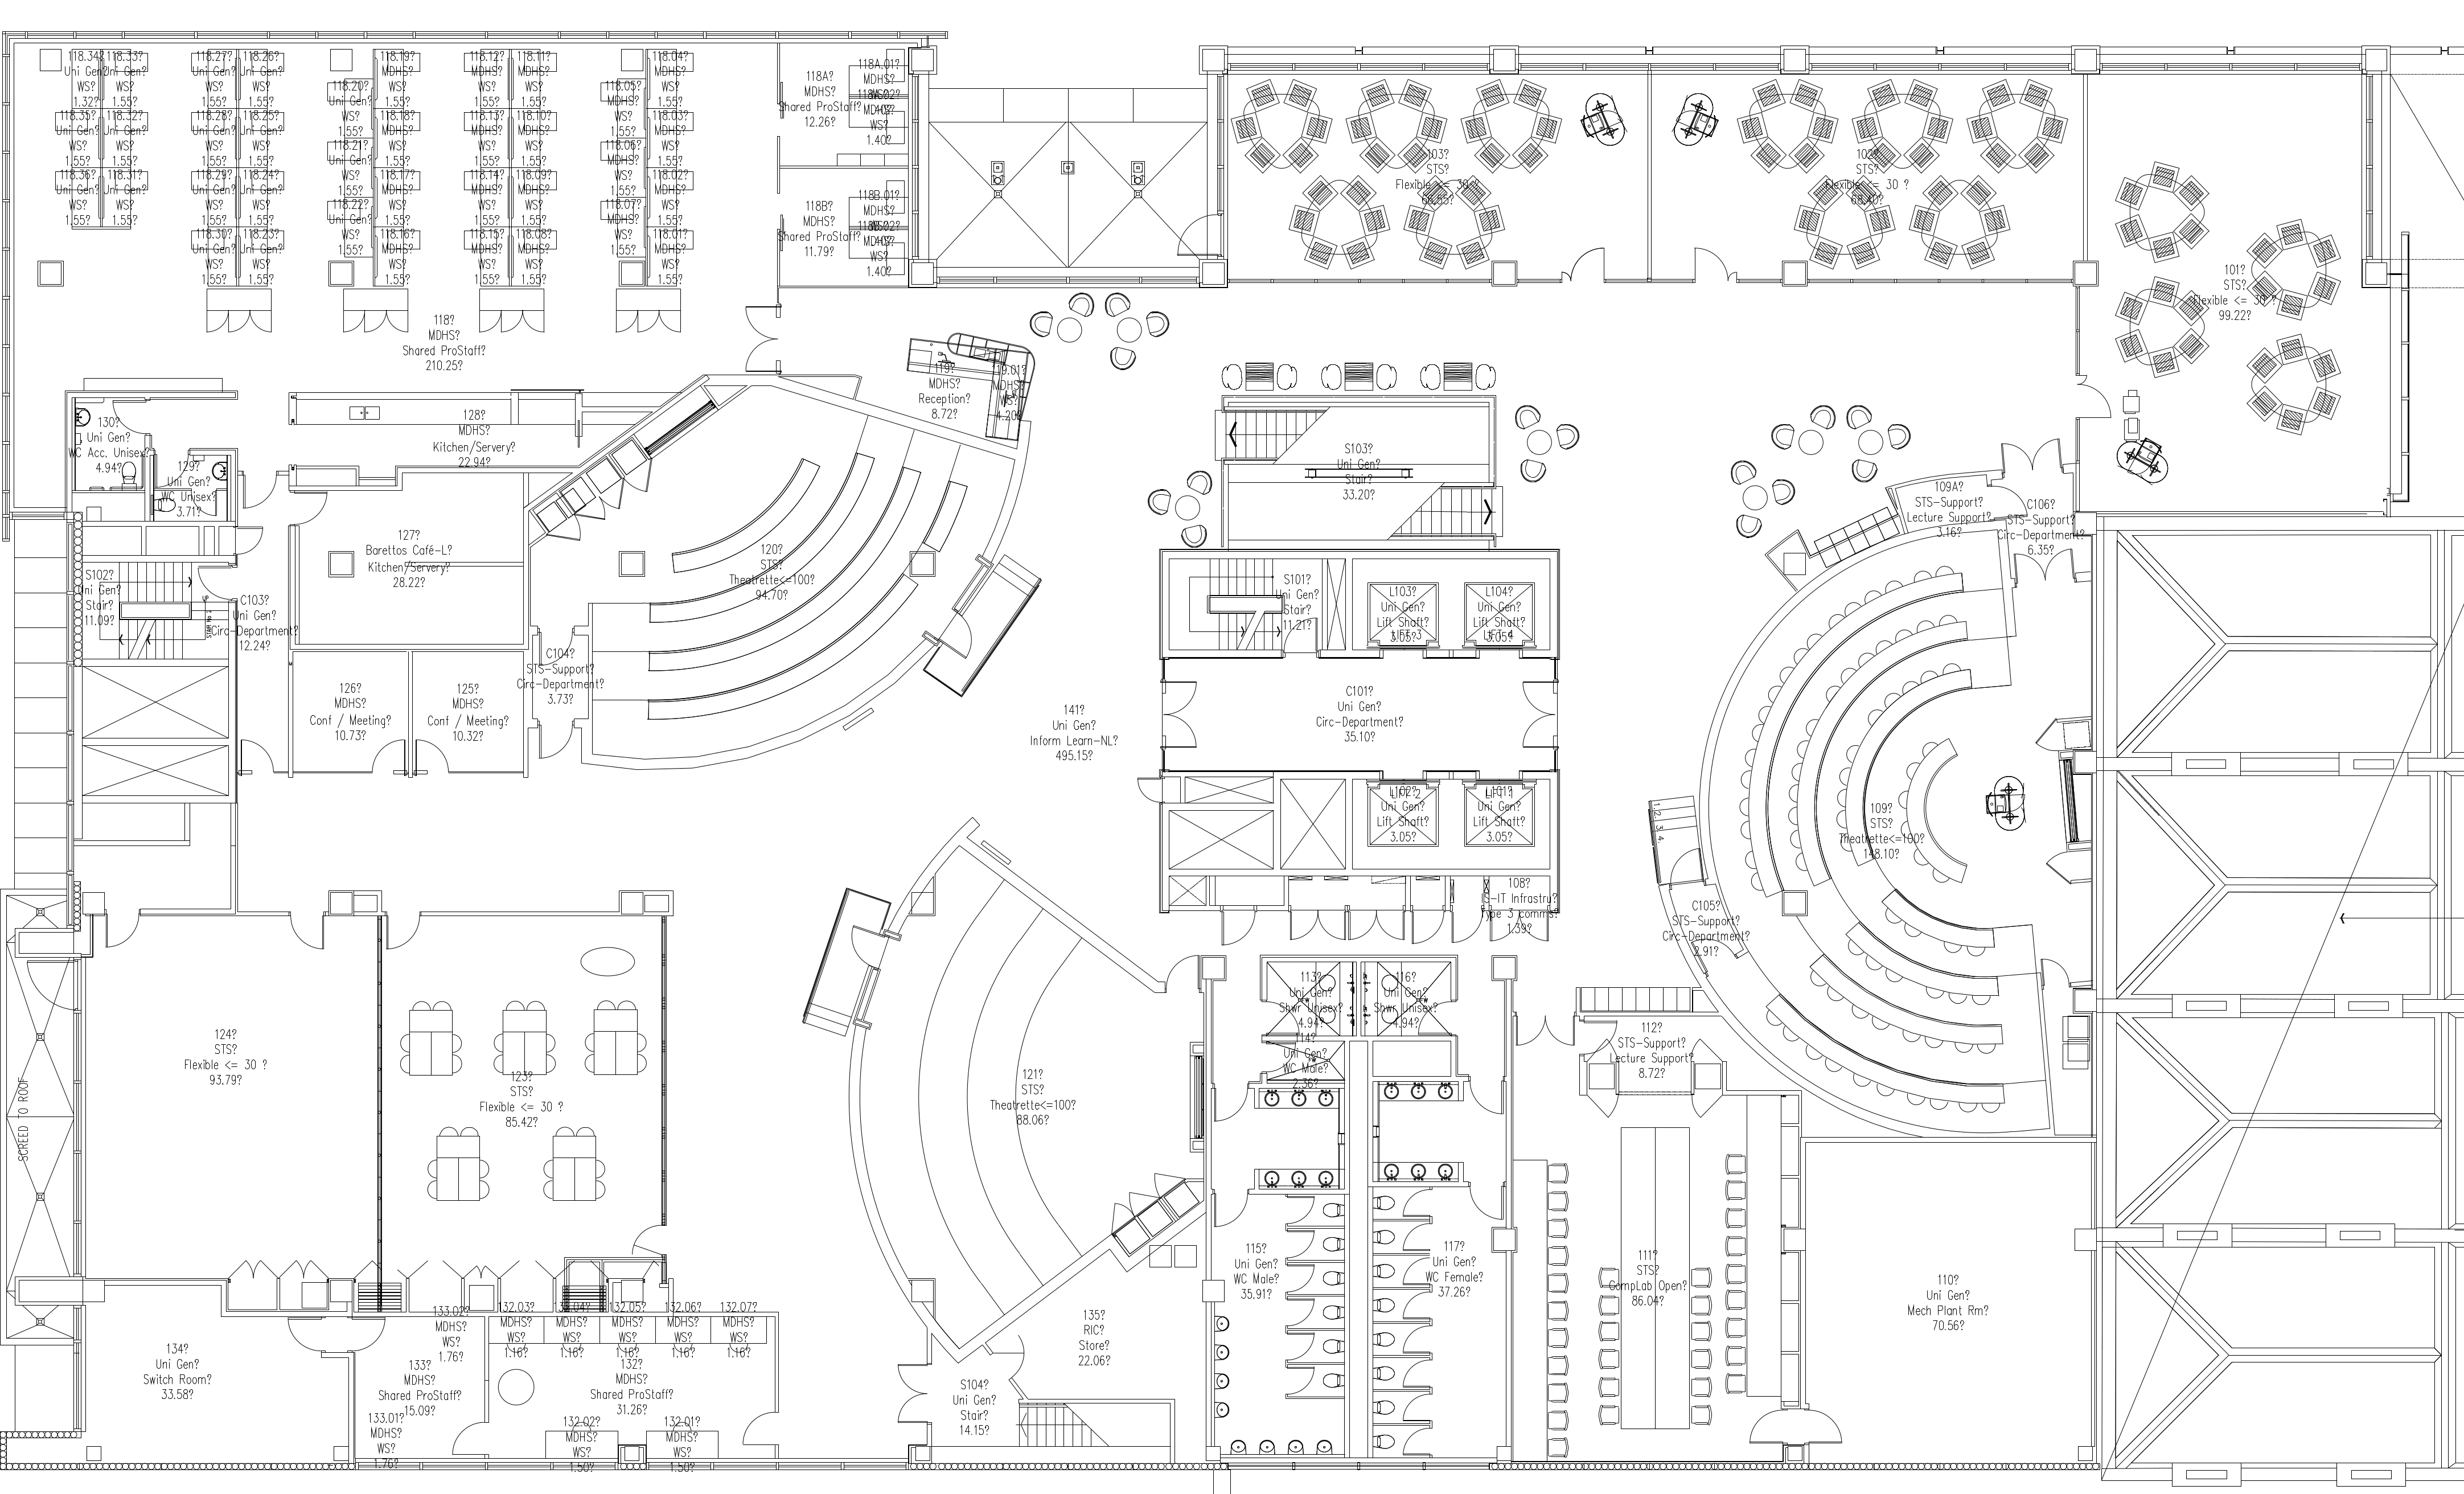door: (1155, 679, 1204, 750), (736, 304, 783, 375), (1514, 681, 1561, 751), (2012, 546, 2082, 591), (1999, 433, 2070, 479), (1554, 241, 1610, 289), (1167, 213, 1223, 259), (1686, 241, 1742, 287), (1514, 1008, 1577, 1049), (1346, 904, 1406, 947), (1287, 904, 1346, 947), (847, 922, 892, 977), (935, 605, 980, 660), (1276, 611, 1322, 665), (2072, 370, 2116, 422), (2036, 947, 2080, 994), (2036, 845, 2080, 892), (1804, 1404, 1848, 1450), (1744, 1402, 1786, 1450), (2026, 713, 2068, 760), (1162, 950, 1204, 996), (1211, 1079, 1253, 1124), (1211, 1184, 1253, 1230), (1463, 1179, 1505, 1225), (239, 465, 280, 512), (412, 732, 452, 780), (1464, 1073, 1507, 1117), (150, 445, 190, 491), (290, 487, 331, 533), (102, 906, 143, 952), (347, 1315, 387, 1360), (239, 730, 278, 778), (384, 906, 422, 954), (620, 1219, 667, 1258), (1992, 477, 2033, 521), (109, 396, 148, 442), (197, 560, 236, 605), (368, 734, 407, 780), (537, 720, 576, 765), (535, 623, 574, 669), (287, 910, 326, 956), (447, 1411, 486, 1457), (285, 1311, 324, 1357), (1410, 906, 1448, 950), (1447, 906, 1485, 950), (1580, 1017, 1619, 1059), (1276, 1193, 1316, 1227), (1276, 1263, 1318, 1295), (1274, 1330, 1316, 1362), (1392, 1186, 1434, 1218), (1392, 1253, 1434, 1285), (1394, 1390, 1436, 1422), (280, 1255, 329, 1281), (456, 1255, 505, 1281), (1276, 1230, 1316, 1262), (1276, 1297, 1316, 1329), (1276, 1364, 1316, 1395), (1394, 1219, 1434, 1251), (1392, 1290, 1433, 1322), (1394, 1323, 1434, 1355), (1394, 1359, 1434, 1390), (1394, 1424, 1434, 1455), (227, 1255, 276, 1279), (1686, 1036, 1727, 1065), (1584, 1093, 1623, 1121), (1688, 1093, 1727, 1121)
